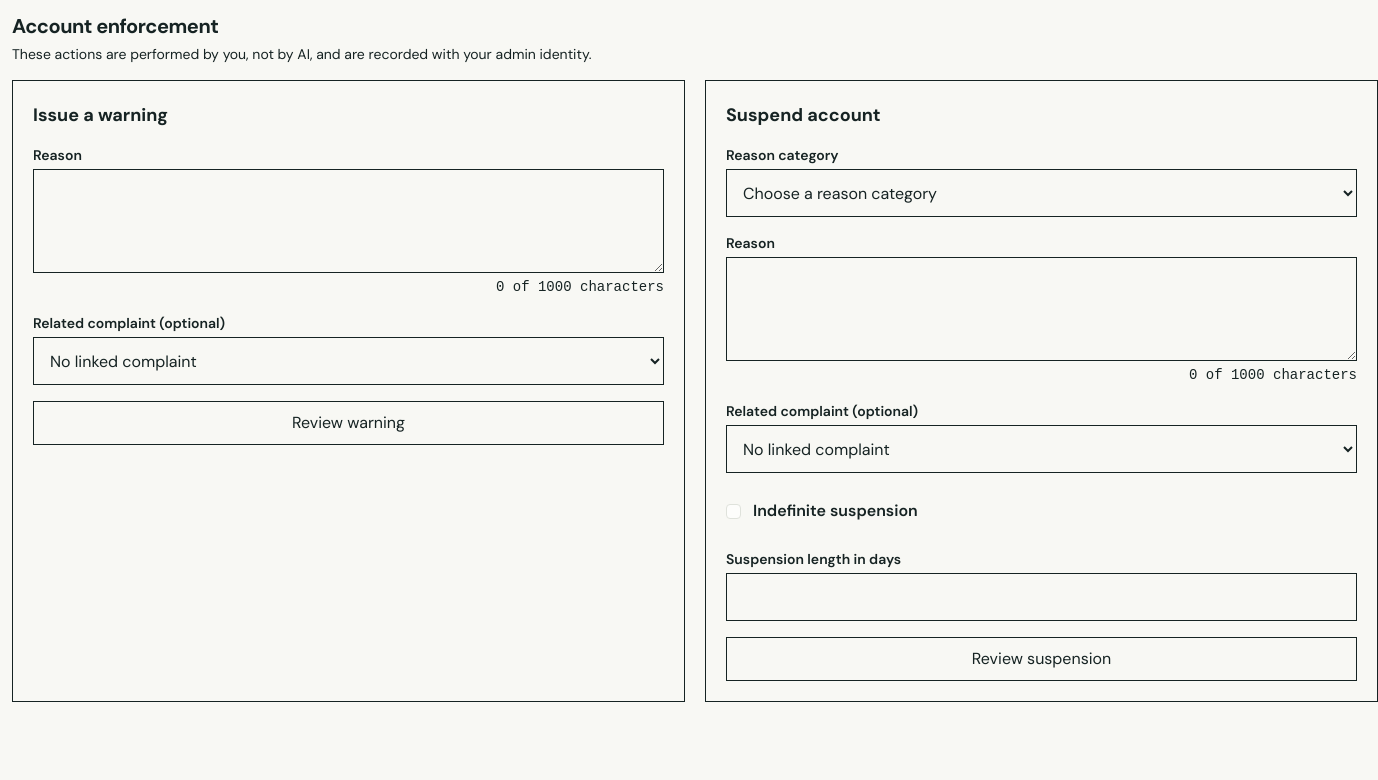
Test: RiderEnforcementActions (OA-FR-21, OA-FR-23, OA-FR-28, CS455-54) › requires confirmation before issuing a warning and shows success only after the server replies
Type "Repeated unsafe behavior." into the text box labelled "Reason" below "Issue a warning".
click(348, 221); type("Repeated unsafe behavior.")  # box 33,169 -> 664,273
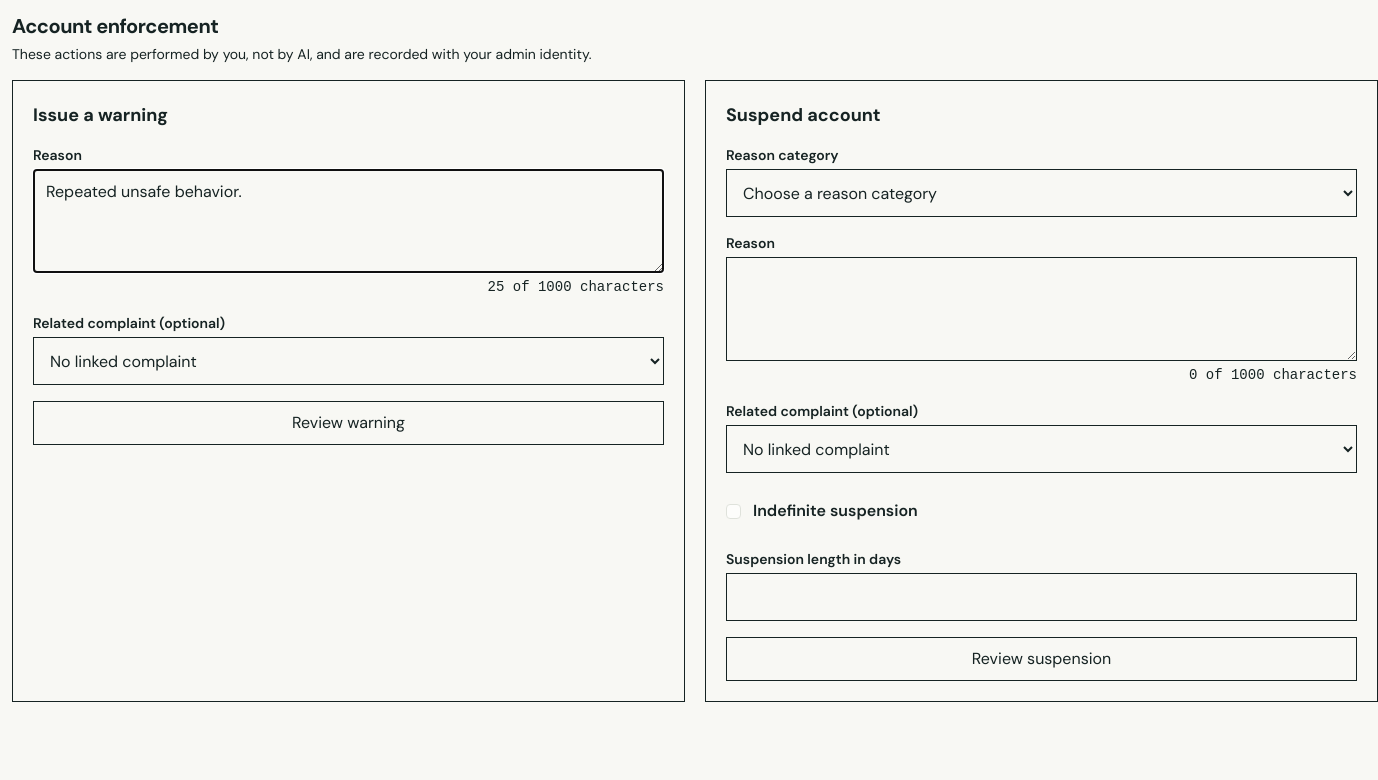
Click the button "Review warning".
click(348, 423)  # box 33,401 -> 664,445
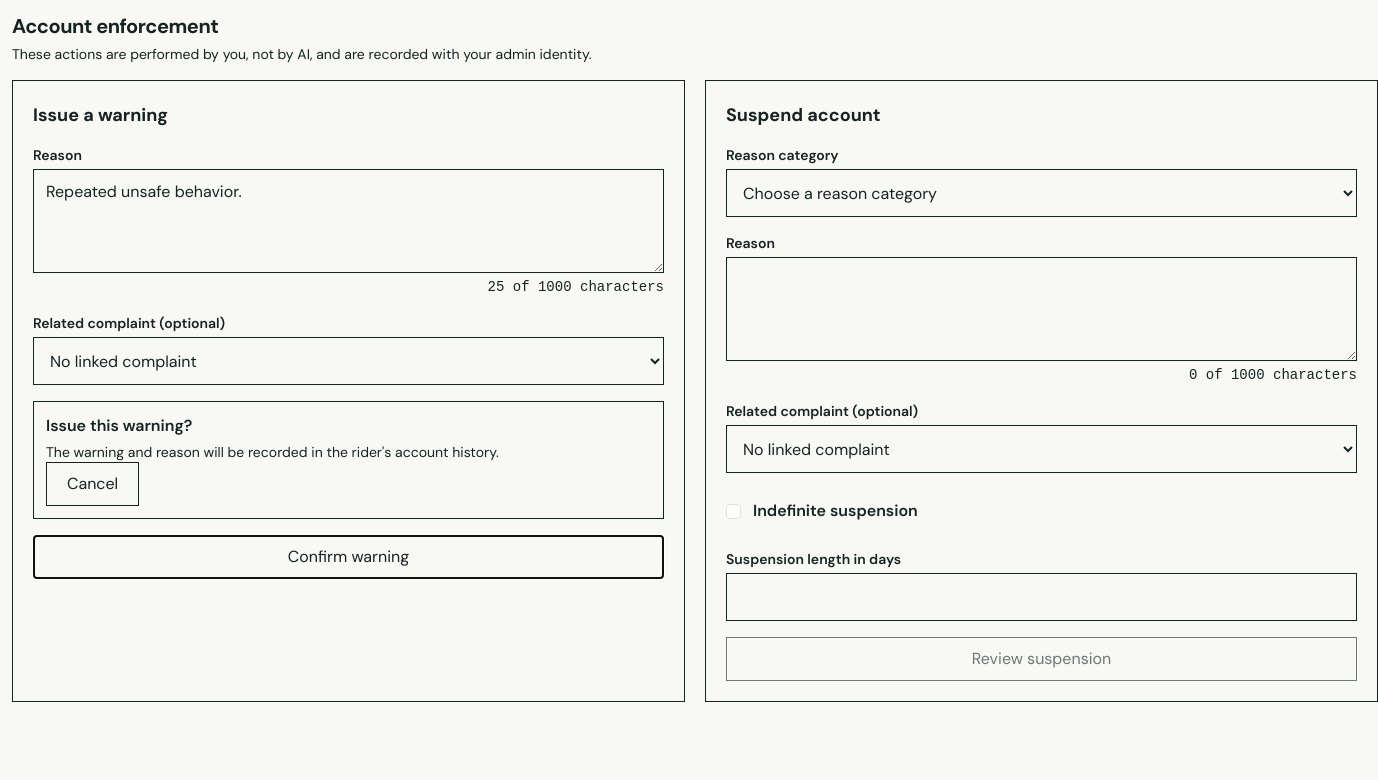
expect the text "Issue this warning?" is shown: met, box 46,415 -> 192,436
Click the button "Confirm warning".
click(348, 557)  # box 33,535 -> 664,579
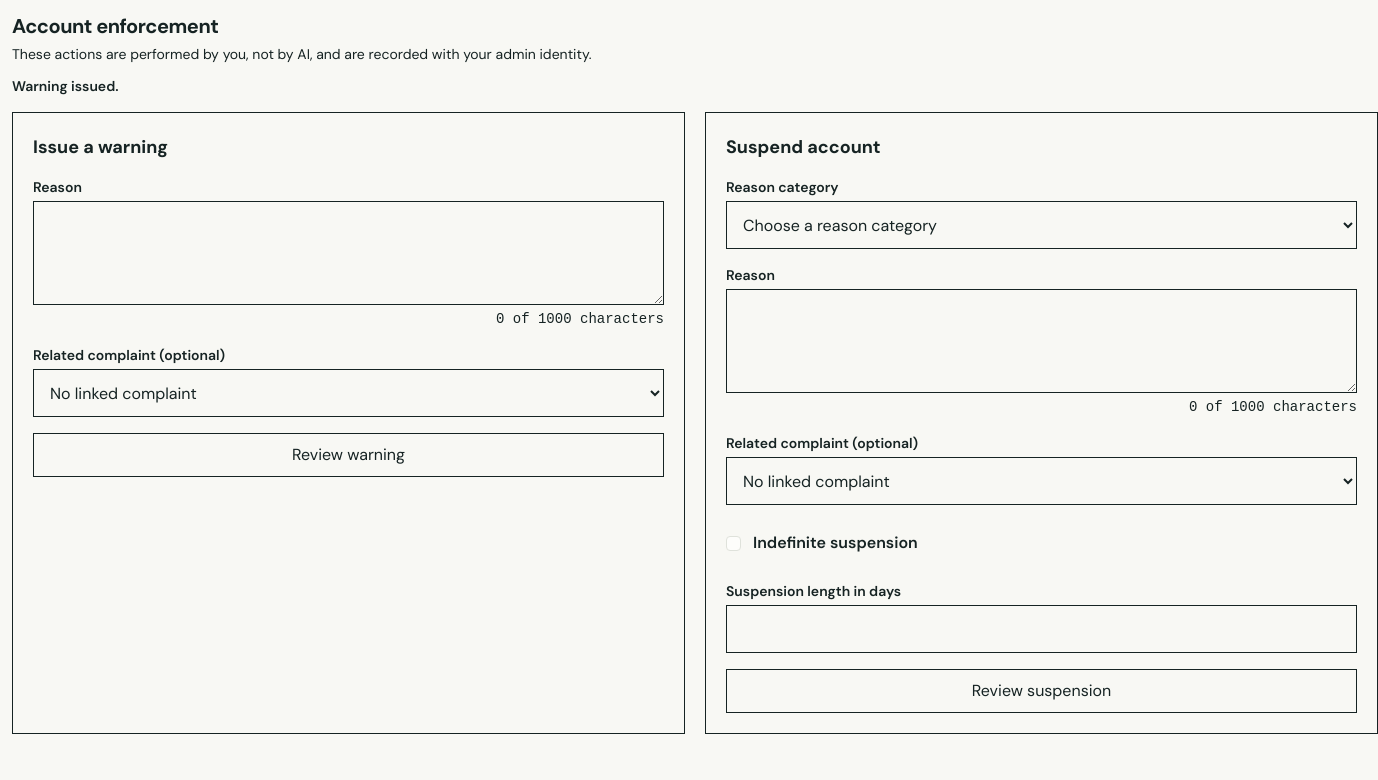
expect the message reads "Warning issued.": met, box 12,77 -> 118,95
